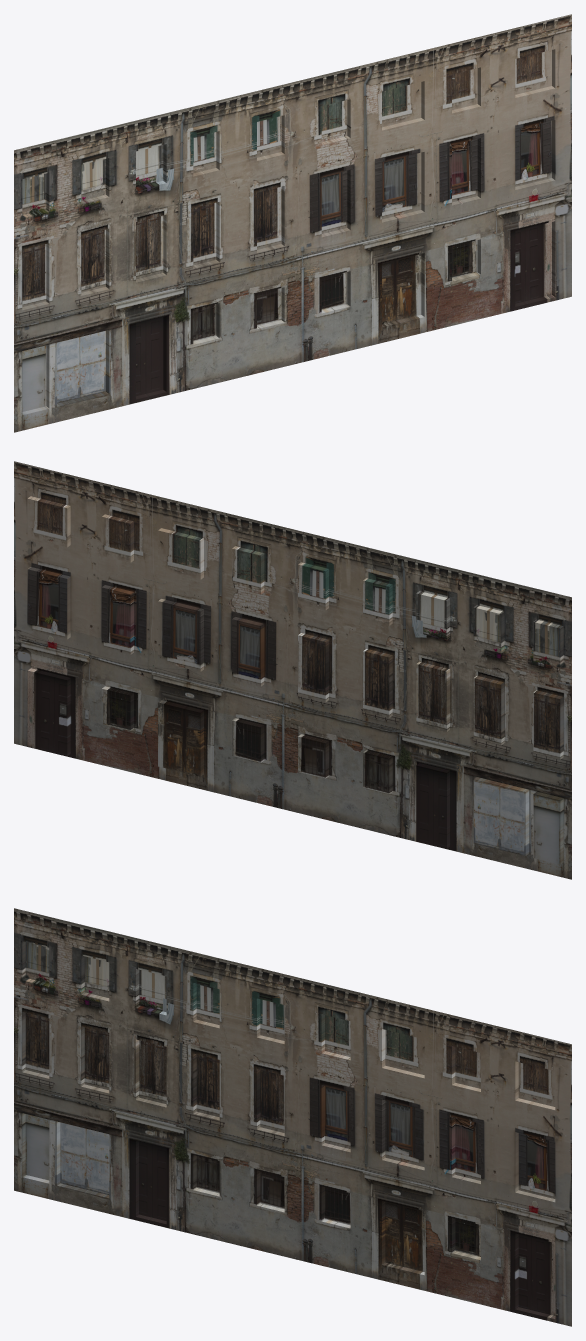
File: Buildings$.fbx
The picture shows the model from 3 angles, top to bottom: view 1: azimuth 30°, elevation 25°; view 2: azimuth 150°, elevation 25°; view 3: azimuth 330°, elevation 25°; orthographic projection.
Parts seen in each view (by area): view 1: Plane; view 2: Plane; view 3: Plane.
Part boxes in pixels (x1,y1,x2,y2): Plane: (14,14,571,432); Plane: (14,461,571,879); Plane: (14,908,571,1326).
Size of the model in its own units: 443 by 214 by 4.49.
